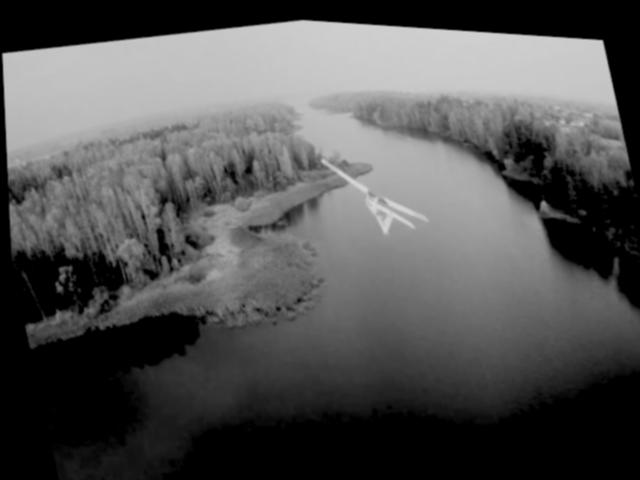hedef: (315, 137, 440, 250)
